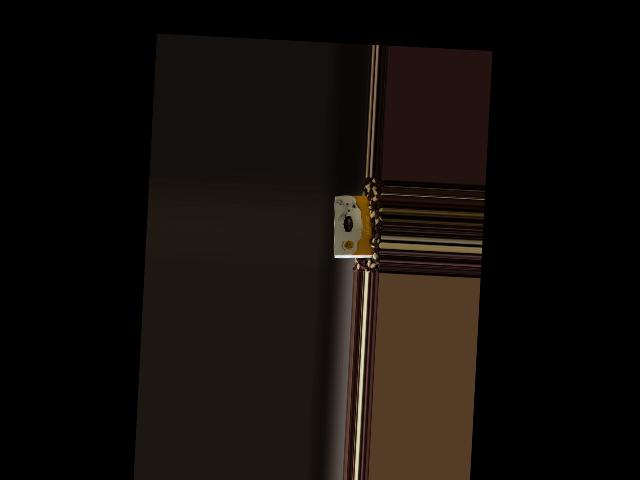chocolate: (329, 190, 377, 263)
